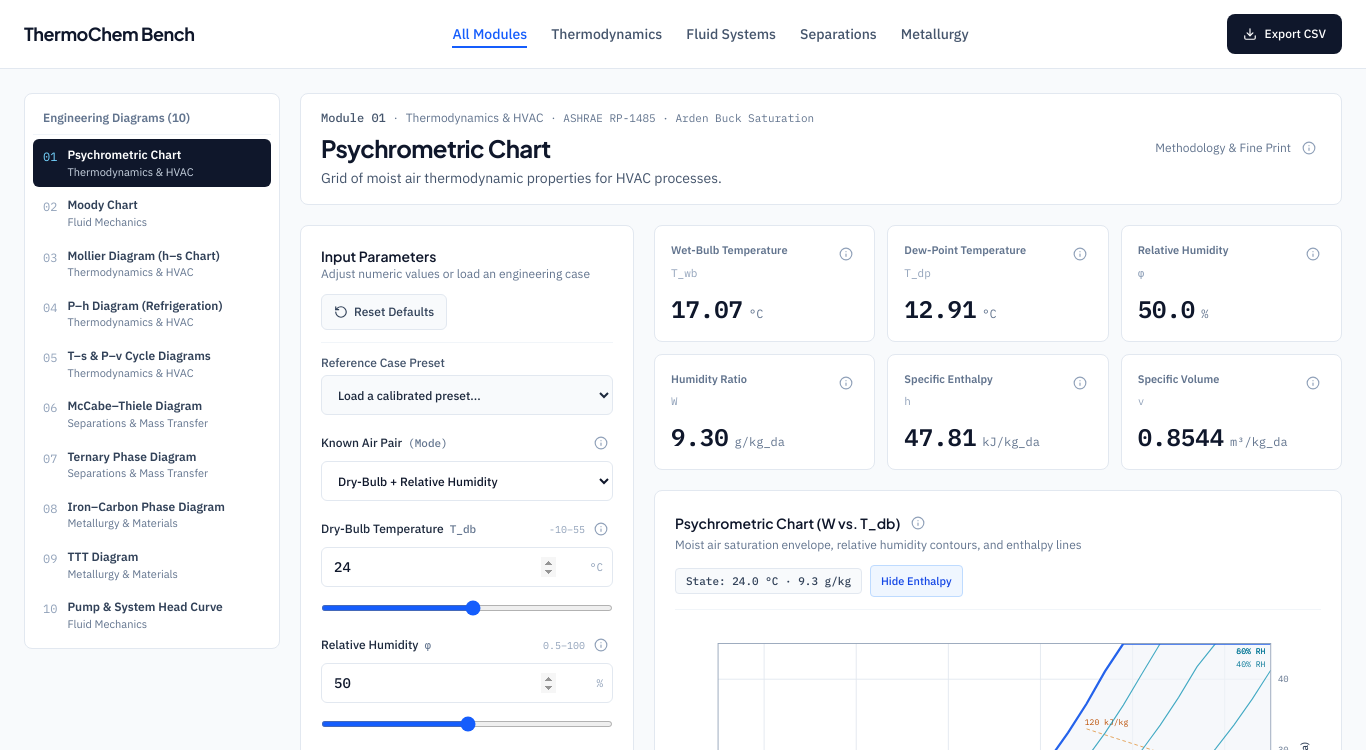
Test: ThermoChem Bench — Integration Flows (Blue Pill & Red Pill) › displays accessible fine-print tooltips with live data values and dismisses with Escape
Click the button named "Fine print for Dry-Bulb Temperature". click: (601, 529)
box: 589,517 -> 613,541
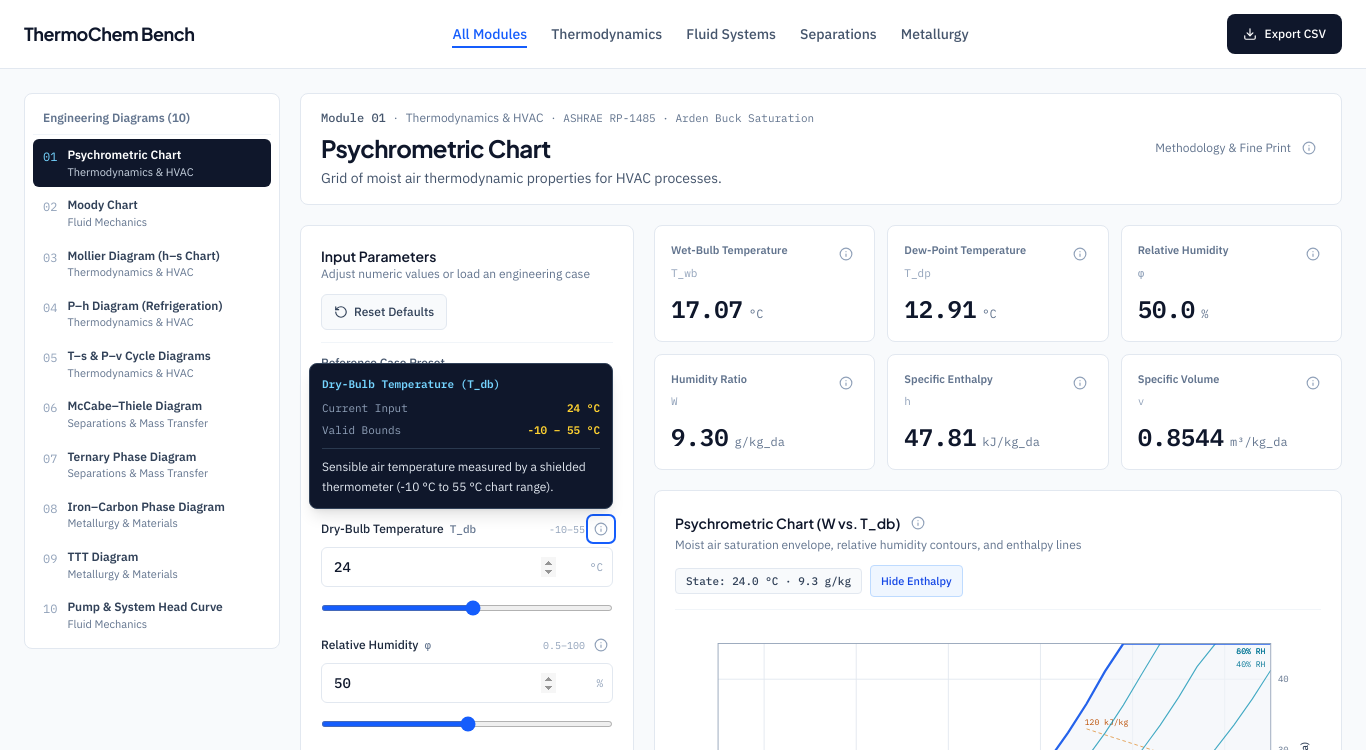
Result: the tooltip shows "Current Input" at 322,401 -> 408,415
Result: the tooltip shows "24 °C" at 567,401 -> 600,415
Result: the tooltip shows "shielded thermometer" at 322,459 -> 586,494
Press Escape
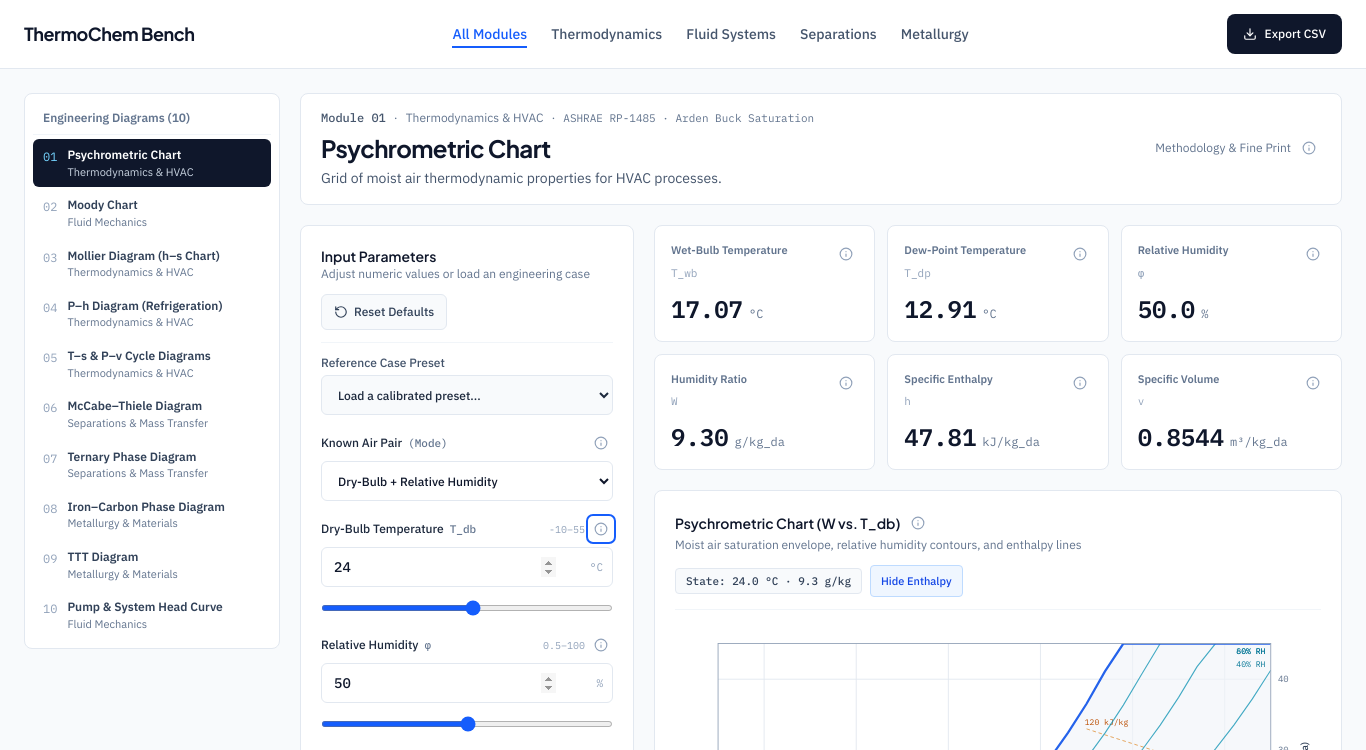
Result: the tooltip is gone
# Check output metric tooltip includes Computed Value and High Precision
Click the button named "Fine print for Wet-Bulb Temperature". click: (846, 254)
box: 834,242 -> 858,266
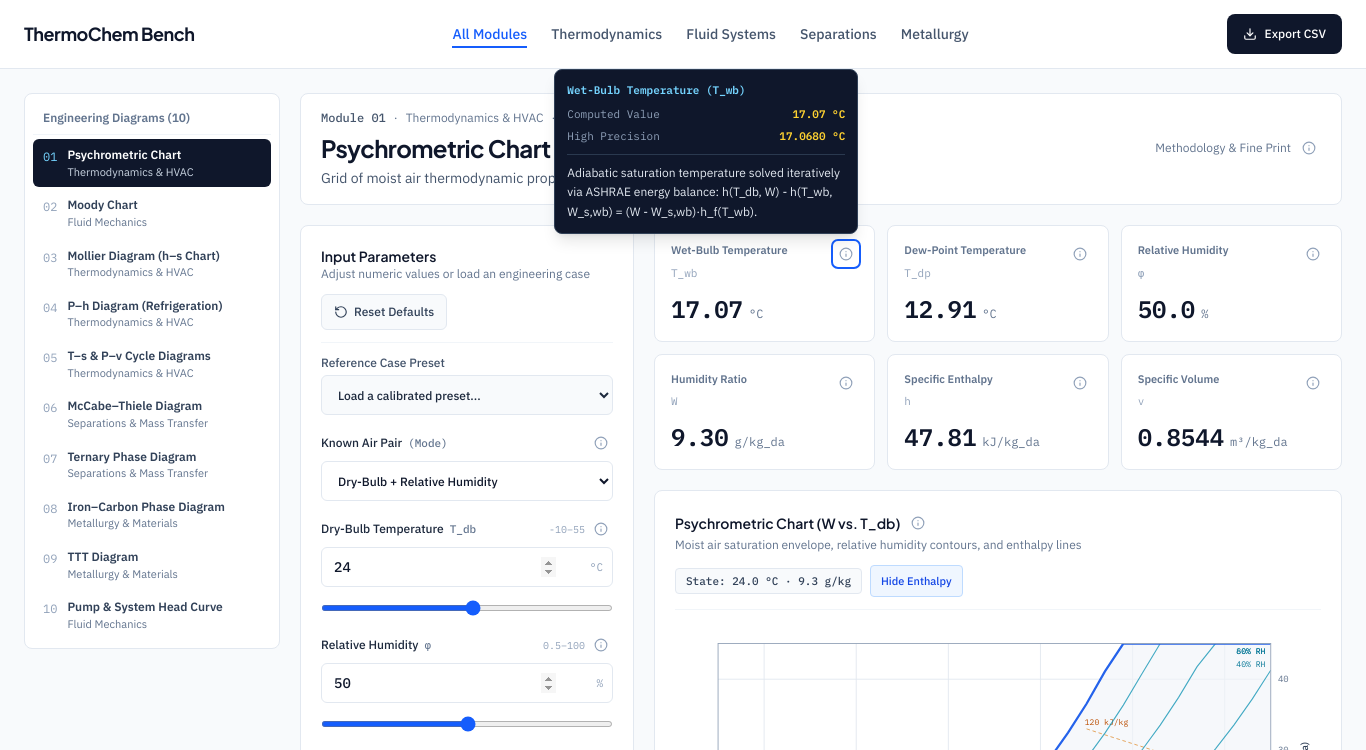
Result: the tooltip shows "Computed Value" at 567,107 -> 660,121
Result: the tooltip shows "High Precision" at 567,129 -> 660,143
